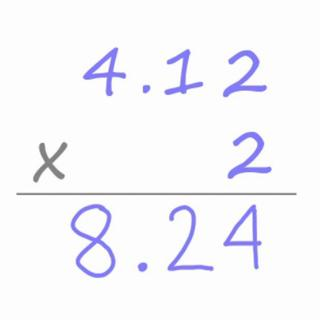.: (129, 246, 150, 277), (138, 79, 157, 99)
1: (158, 42, 206, 100)
2: (161, 202, 218, 276), (219, 43, 271, 97), (226, 125, 275, 182)
4: (74, 39, 131, 101), (222, 200, 268, 275)
8: (65, 202, 121, 279)
